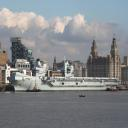Portanaves: (8, 50, 123, 95)
